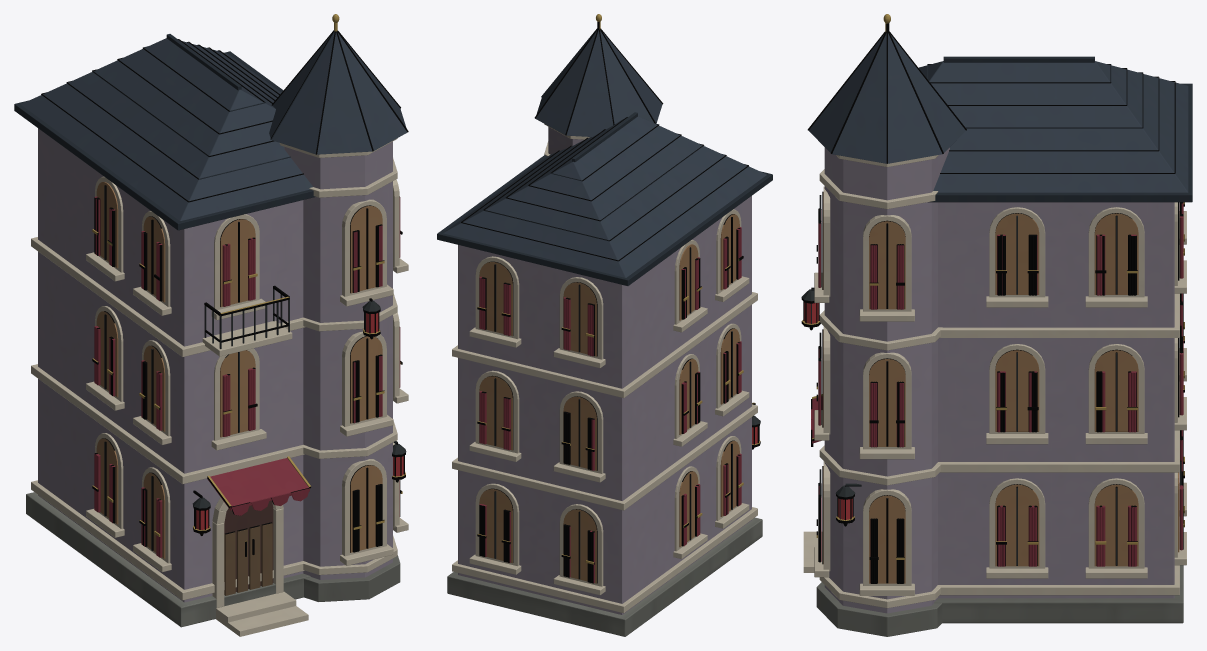
File: LanternSpire.fbx
3 renders of one model, left to right at view 1: azimuth 30°, elevation 25°; view 2: azimuth 150°, elevation 25°; view 3: azimuth 270°, elevation 25°, orthographic. The views are drawn at different scales.
Visible parts, largest first — view 1: LanternSpire.001; view 2: LanternSpire.001; view 3: LanternSpire.001.
Boxes of the visible parts, bbox=[...] form: LanternSpire.001: bbox=[14, 14, 408, 636]; LanternSpire.001: bbox=[437, 14, 772, 636]; LanternSpire.001: bbox=[801, 14, 1192, 636].
Size of the model in its own units: 5.81 by 12.84 by 7.68.
